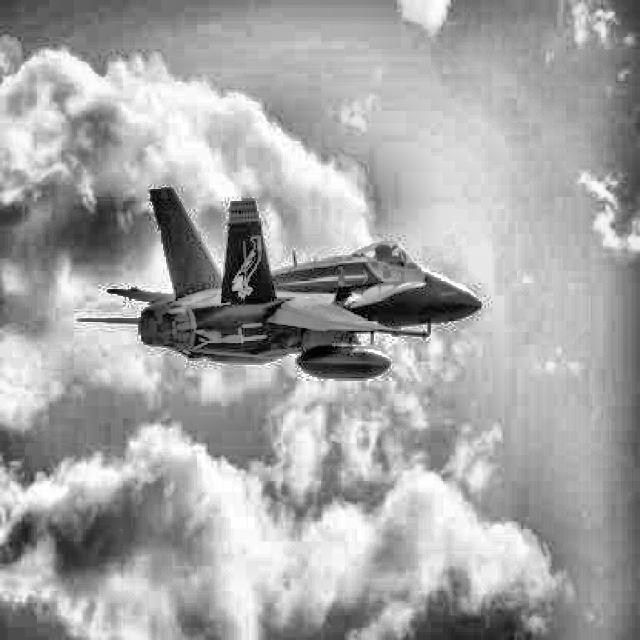F18: (76, 187, 482, 379)
